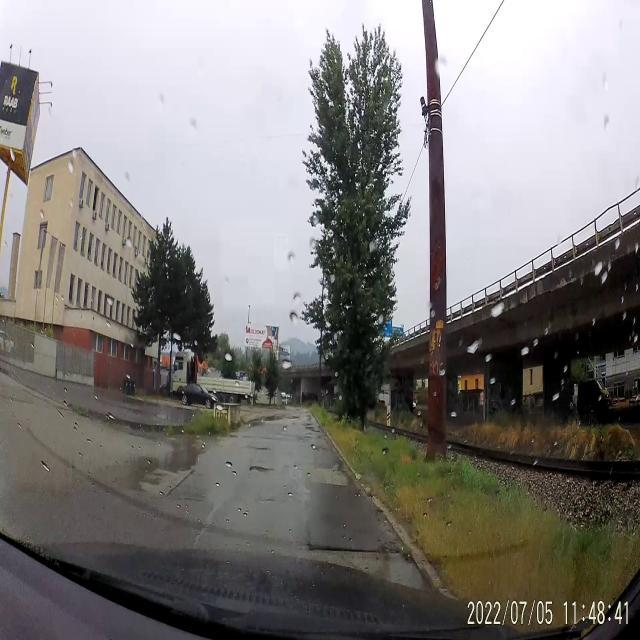Pothole: (305, 539, 404, 561), (248, 460, 273, 478), (253, 497, 278, 507), (246, 444, 274, 452)
